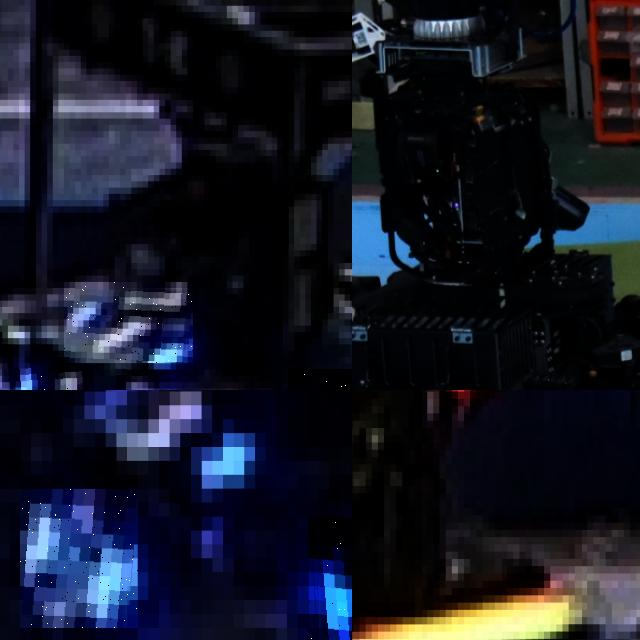B1: (64, 282, 193, 363), (2, 363, 125, 390)
B3: (20, 489, 138, 628), (308, 516, 352, 640)
